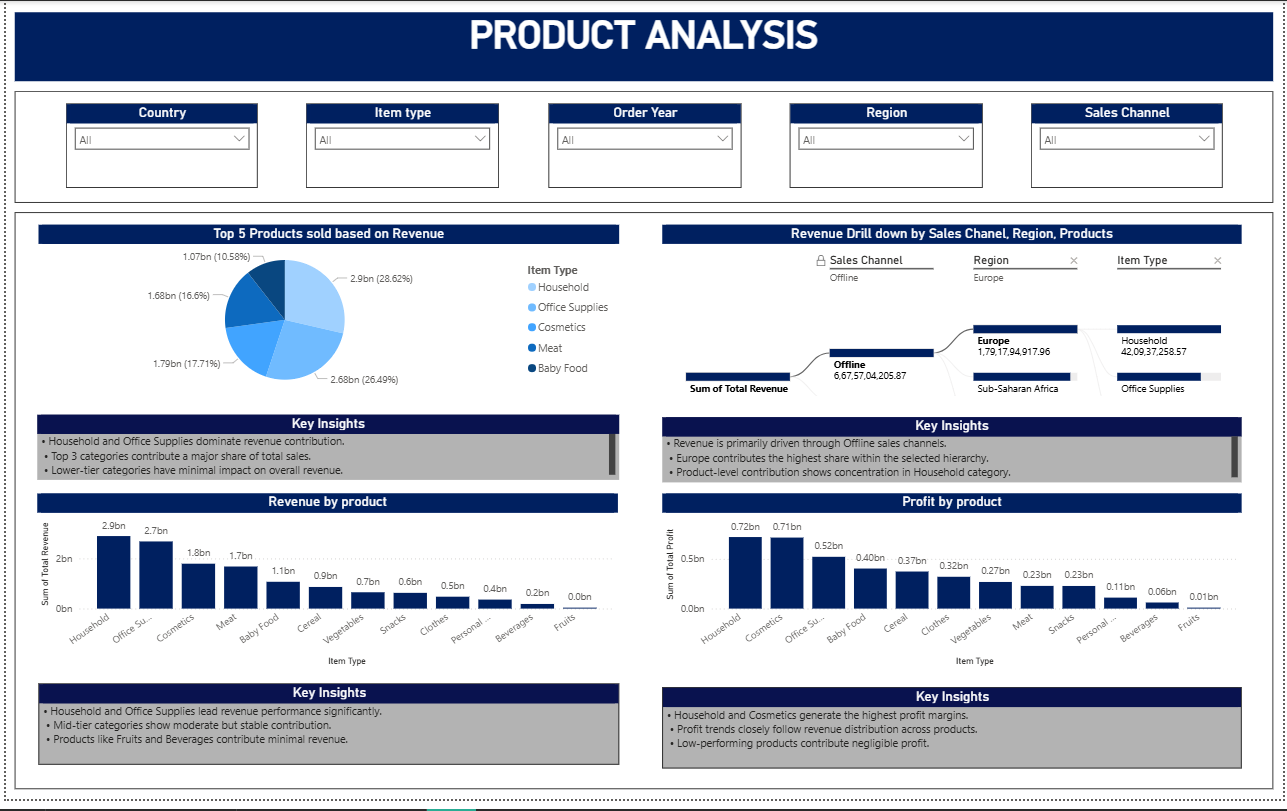

What the dashboard file says about the page in this screenshot:
{"tool":"powerbi","page":{"name":"PRODUCT ANALYSIS","canvas":[1600,1000],"ordinal":1},"visuals":[{"type":"textbox","box":[10.4,112.3,1575.7,139.9],"z":0},{"type":"textbox","box":[10.4,264.3,1575.7,722.2],"z":1000},{"type":"textbox","title":"PRODUCT ANALYSIS","box":[10.4,13.8,1575.7,86.4],"z":2000},{"type":"pieChart","title":"Top 5 Products sold based on Revenue","fields":{"Category":["Sales Data.Item Type"],"Y":["Sum(Sales Data.Total Revenue)"]},"box":[41.5,279.9,727.4,219.4],"z":3000},{"type":"columnChart","title":"Profit by product","fields":{"Category":["Sales Data.Item Type"],"Y":["Sum(Sales Data.Total Profit)"]},"box":[822.4,616.8,725.6,221.1],"z":4000},{"type":"slicer","title":"Country","fields":{"Values":["Sales Data.Country"]},"box":[75.1,128.9,240,105.7],"z":5000},{"type":"slicer","title":"Item type","fields":{"Values":["Sales Data.Item Type"]},"box":[376.2,128.9,241.4,105.7],"z":6000},{"type":"slicer","title":"Order Year","fields":{"Values":["Sales Data.Order Year"]},"box":[678.7,128.9,241.4,105.7],"z":7000},{"type":"slicer","title":"Sales Channel","fields":{"Values":["Sales Data.Sales Channel"]},"box":[1283.7,128.9,240,105.7],"z":8000},{"type":"slicer","title":"Region","fields":{"Values":["Sales Data.Country","Sales Data.Region"]},"box":[981.2,128.9,241.4,105.7],"z":9000},{"type":"columnChart","title":"Revenue by product","fields":{"Category":["Sales Data.Item Type"],"Y":["Sum(Sales Data.Total Revenue)"]},"box":[39.7,616.8,727.4,221.1],"z":10000},{"type":"decompositionTreeVisual","title":"Revenue Drill down by Sales Chanel, Region, Products","fields":{"Analyze":["Sum(Sales Data.Total Revenue)"],"ExplainBy":["Sales Data.Sales Channel","Sales Data.Region","Sales Data.Item Type"]},"box":[822.4,279.9,725.6,219.4],"z":11000},{"type":"textbox","title":"Key Insights","box":[39.7,518.3,729.1,81.2],"z":12000},{"type":"textbox","title":"Key Insights","box":[822.4,521.8,725.6,81.2],"z":13000},{"type":"textbox","title":"Key Insights","box":[41.5,855.2,727.4,101.9],"z":14000},{"type":"textbox","title":"Key Insights","box":[822.4,858.7,725.6,101.9],"z":15000}]}

Visuals, with their boxes in screenshot pixels (x1, y1, x2, y2), scaled from the page's 1600x1000 canvas onto the 1287x811 screenshot:
textbox: 8, 91, 1276, 205
textbox: 8, 214, 1276, 800
"PRODUCT ANALYSIS" textbox: 8, 11, 1276, 81
"Top 5 Products sold based on Revenue" pieChart: 33, 227, 618, 405
"Profit by product" columnChart: 662, 500, 1245, 680
"Country" slicer: 60, 105, 253, 190
"Item type" slicer: 303, 105, 497, 190
"Order Year" slicer: 546, 105, 740, 190
"Sales Channel" slicer: 1033, 105, 1226, 190
"Region" slicer: 789, 105, 983, 190
"Revenue by product" columnChart: 32, 500, 617, 680
"Revenue Drill down by Sales Chanel, Region, Products" decompositionTreeVisual: 662, 227, 1245, 405
"Key Insights" textbox: 32, 420, 618, 486
"Key Insights" textbox: 662, 423, 1245, 489
"Key Insights" textbox: 33, 694, 618, 776
"Key Insights" textbox: 662, 696, 1245, 779
